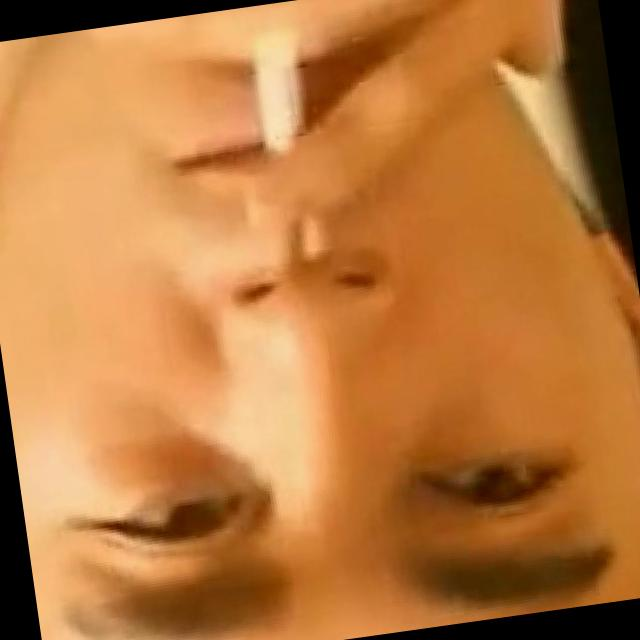cigarette: (233, 23, 330, 166)
